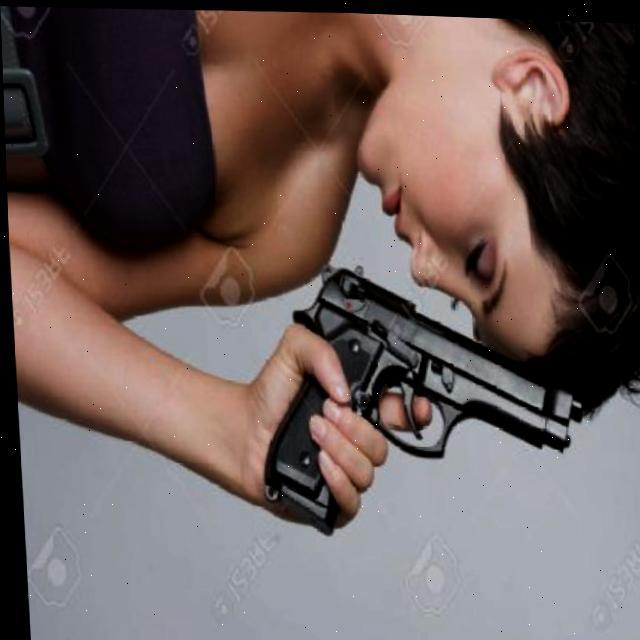gun: (247, 256, 596, 556)
